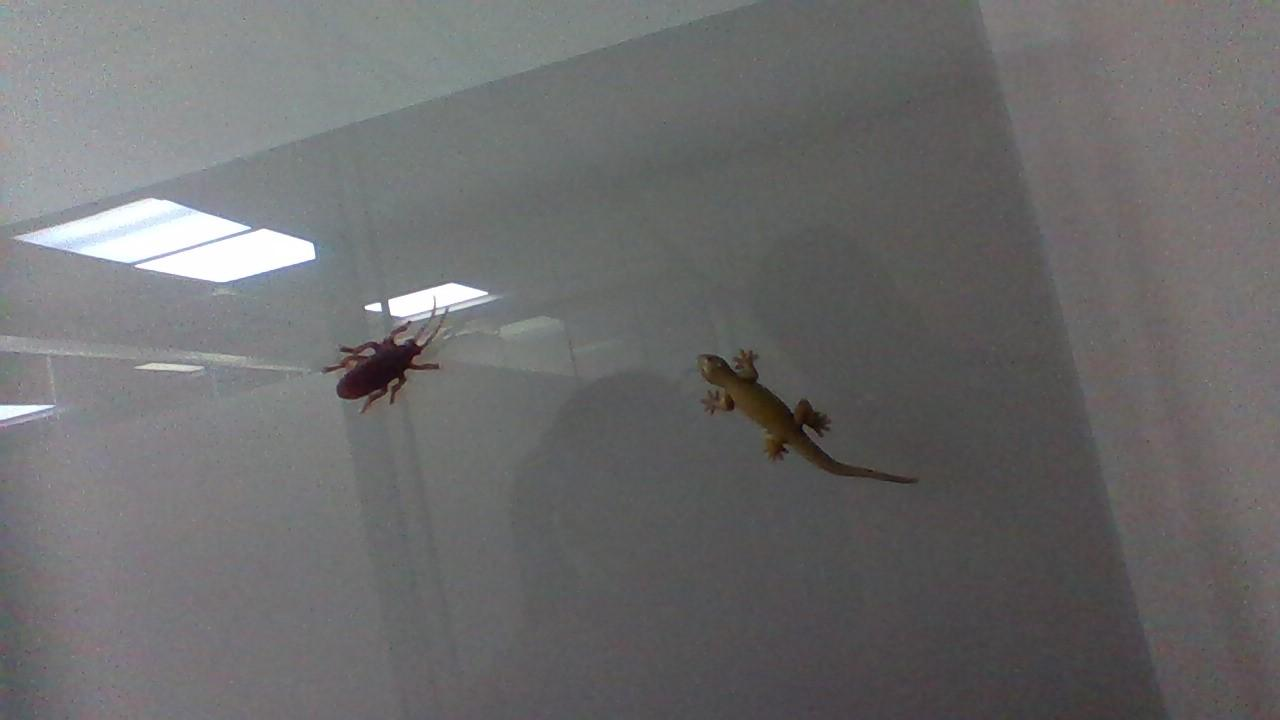cockroach: (317, 296, 451, 416)
lizard: (679, 339, 925, 505)
